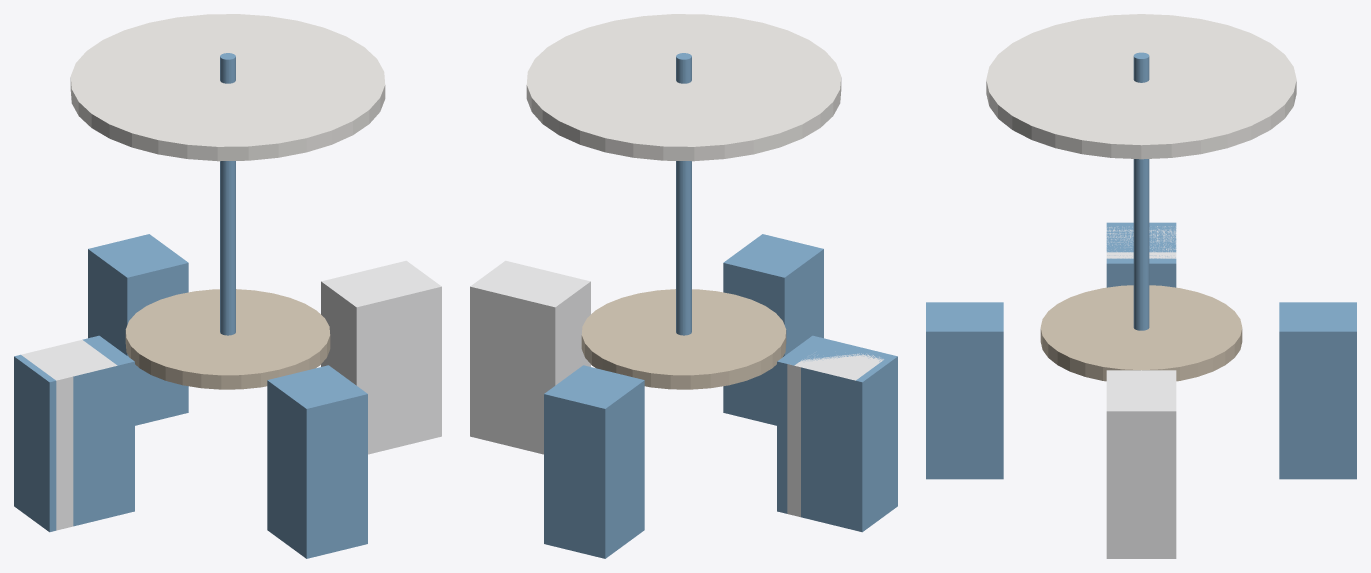
File: MOD_OUTDOOR_TABLE_SEATING_COASTAL_001_LOD_CLOSE.glb
3 renders of one model, left to right at view 1: azimuth 30°, elevation 25°; view 2: azimuth 150°, elevation 25°; view 3: azimuth 270°, elevation 25°, orthographic.
Parts seen in each view (by area): view 1: MOD_OUTDOOR_TABLE_SEATING_COASTAL_001_UMBRELLA_TABLE_VARIAN. (×3), MOD_OUTDOOR_TABLE_SEATING_COASTAL_001_BENCH_AND_TABLE_SET_CL (×3), MOD_OUTDOOR_TABLE_SEATING_COASTAL_001_TWO_SEAT_ROUND_TABLE_S (×3), MOD_OUTDOOR_TABLE_SEATING_COASTAL_001_FOUR_SEAT_SQUARE_TABL., MOD_OUTDOOR_TABLE_SEATING_COASTAL_001_UMBRELLA_TABLE_VARIANT (×3), MOD_OUTDOOR_TABLE_SEATING_COASTAL_001_FOUR_SEAT_SQUARE_TABLE (×3), MOD_OUTDOOR_TABLE_SEATING_COASTAL_001_FOUR_SEAT_SQUARE_TABL, MOD_OUTDOOR_TABLE_SEATING_COASTAL_001_UMBRELLA_TABLE_VARIAN; view 2: MOD_OUTDOOR_TABLE_SEATING_COASTAL_001_UMBRELLA_TABLE_VARIAN. (×3), MOD_OUTDOOR_TABLE_SEATING_COASTAL_001_BENCH_AND_TABLE_SET_CL (×3), MOD_OUTDOOR_TABLE_SEATING_COASTAL_001_FOUR_SEAT_SQUARE_TABLE (×3), MOD_OUTDOOR_TABLE_SEATING_COASTAL_001_UMBRELLA_TABLE_VARIANT (×3), MOD_OUTDOOR_TABLE_SEATING_COASTAL_001_TWO_SEAT_ROUND_TABLE_S (×3), MOD_OUTDOOR_TABLE_SEATING_COASTAL_001_FOUR_SEAT_SQUARE_TABL., MOD_OUTDOOR_TABLE_SEATING_COASTAL_001_FOUR_SEAT_SQUARE_TABL, MOD_OUTDOOR_TABLE_SEATING_COASTAL_001_UMBRELLA_TABLE_VARIAN; view 3: MOD_OUTDOOR_TABLE_SEATING_COASTAL_001_UMBRELLA_TABLE_VARIAN. (×3), MOD_OUTDOOR_TABLE_SEATING_COASTAL_001_BENCH_AND_TABLE_SET_CL (×3), MOD_OUTDOOR_TABLE_SEATING_COASTAL_001_FOUR_SEAT_SQUARE_TABLE (×3), MOD_OUTDOOR_TABLE_SEATING_COASTAL_001_UMBRELLA_TABLE_VARIANT (×2), MOD_OUTDOOR_TABLE_SEATING_COASTAL_001_TWO_SEAT_ROUND_TABLE_S (×3), MOD_OUTDOOR_TABLE_SEATING_COASTAL_001_FOUR_SEAT_SQUARE_TABL., MOD_OUTDOOR_TABLE_SEATING_COASTAL_001_UMBRELLA_TABLE_VARIAN.
Part boxes in pixels (box(x1,y1,x2,y2)): MOD_OUTDOOR_TABLE_SEATING_COASTAL_001_UMBRELLA_TABLE_VARIAN. (×3): box(70, 14, 385, 532); MOD_OUTDOOR_TABLE_SEATING_COASTAL_001_BENCH_AND_TABLE_SET_CL (×3): box(14, 260, 441, 532); MOD_OUTDOOR_TABLE_SEATING_COASTAL_001_TWO_SEAT_ROUND_TABLE_S (×3): box(73, 266, 417, 526); MOD_OUTDOOR_TABLE_SEATING_COASTAL_001_FOUR_SEAT_SQUARE_TABL.: box(271, 369, 367, 558); MOD_OUTDOOR_TABLE_SEATING_COASTAL_001_UMBRELLA_TABLE_VARIANT (×3): box(92, 238, 428, 453); MOD_OUTDOOR_TABLE_SEATING_COASTAL_001_FOUR_SEAT_SQUARE_TABLE (×3): box(88, 234, 434, 452); MOD_OUTDOOR_TABLE_SEATING_COASTAL_001_FOUR_SEAT_SQUARE_TABL: box(21, 340, 117, 530); MOD_OUTDOOR_TABLE_SEATING_COASTAL_001_UMBRELLA_TABLE_VARIAN: box(63, 376, 73, 528); MOD_OUTDOOR_TABLE_SEATING_COASTAL_001_UMBRELLA_TABLE_VARIAN. (×3): box(526, 14, 841, 425); MOD_OUTDOOR_TABLE_SEATING_COASTAL_001_BENCH_AND_TABLE_SET_CL (×3): box(470, 260, 897, 532); MOD_OUTDOOR_TABLE_SEATING_COASTAL_001_FOUR_SEAT_SQUARE_TABLE (×3): box(477, 274, 778, 558); MOD_OUTDOOR_TABLE_SEATING_COASTAL_001_UMBRELLA_TABLE_VARIANT (×3): box(484, 264, 770, 555); MOD_OUTDOOR_TABLE_SEATING_COASTAL_001_TWO_SEAT_ROUND_TABLE_S (×3): box(494, 269, 870, 513); MOD_OUTDOOR_TABLE_SEATING_COASTAL_001_FOUR_SEAT_SQUARE_TABL.: box(730, 234, 823, 352); MOD_OUTDOOR_TABLE_SEATING_COASTAL_001_FOUR_SEAT_SQUARE_TABL: box(794, 353, 883, 517); MOD_OUTDOOR_TABLE_SEATING_COASTAL_001_UMBRELLA_TABLE_VARIAN: box(787, 364, 850, 515); MOD_OUTDOOR_TABLE_SEATING_COASTAL_001_UMBRELLA_TABLE_VARIAN. (×3): box(934, 14, 1296, 479); MOD_OUTDOOR_TABLE_SEATING_COASTAL_001_BENCH_AND_TABLE_SET_CL (×3): box(1040, 222, 1242, 558); MOD_OUTDOOR_TABLE_SEATING_COASTAL_001_FOUR_SEAT_SQUARE_TABLE (×3): box(1048, 288, 1356, 479); MOD_OUTDOOR_TABLE_SEATING_COASTAL_001_UMBRELLA_TABLE_VARIANT (×2): box(1056, 295, 1348, 479); MOD_OUTDOOR_TABLE_SEATING_COASTAL_001_TWO_SEAT_ROUND_TABLE_S (×3): box(1068, 235, 1214, 399); MOD_OUTDOOR_TABLE_SEATING_COASTAL_001_FOUR_SEAT_SQUARE_TABL.: box(926, 302, 995, 479); MOD_OUTDOOR_TABLE_SEATING_COASTAL_001_UMBRELLA_TABLE_VARIAN: box(1106, 229, 1176, 258).
Bounding box in the file's own units: 2.3 × 2.32 × 2.22.
